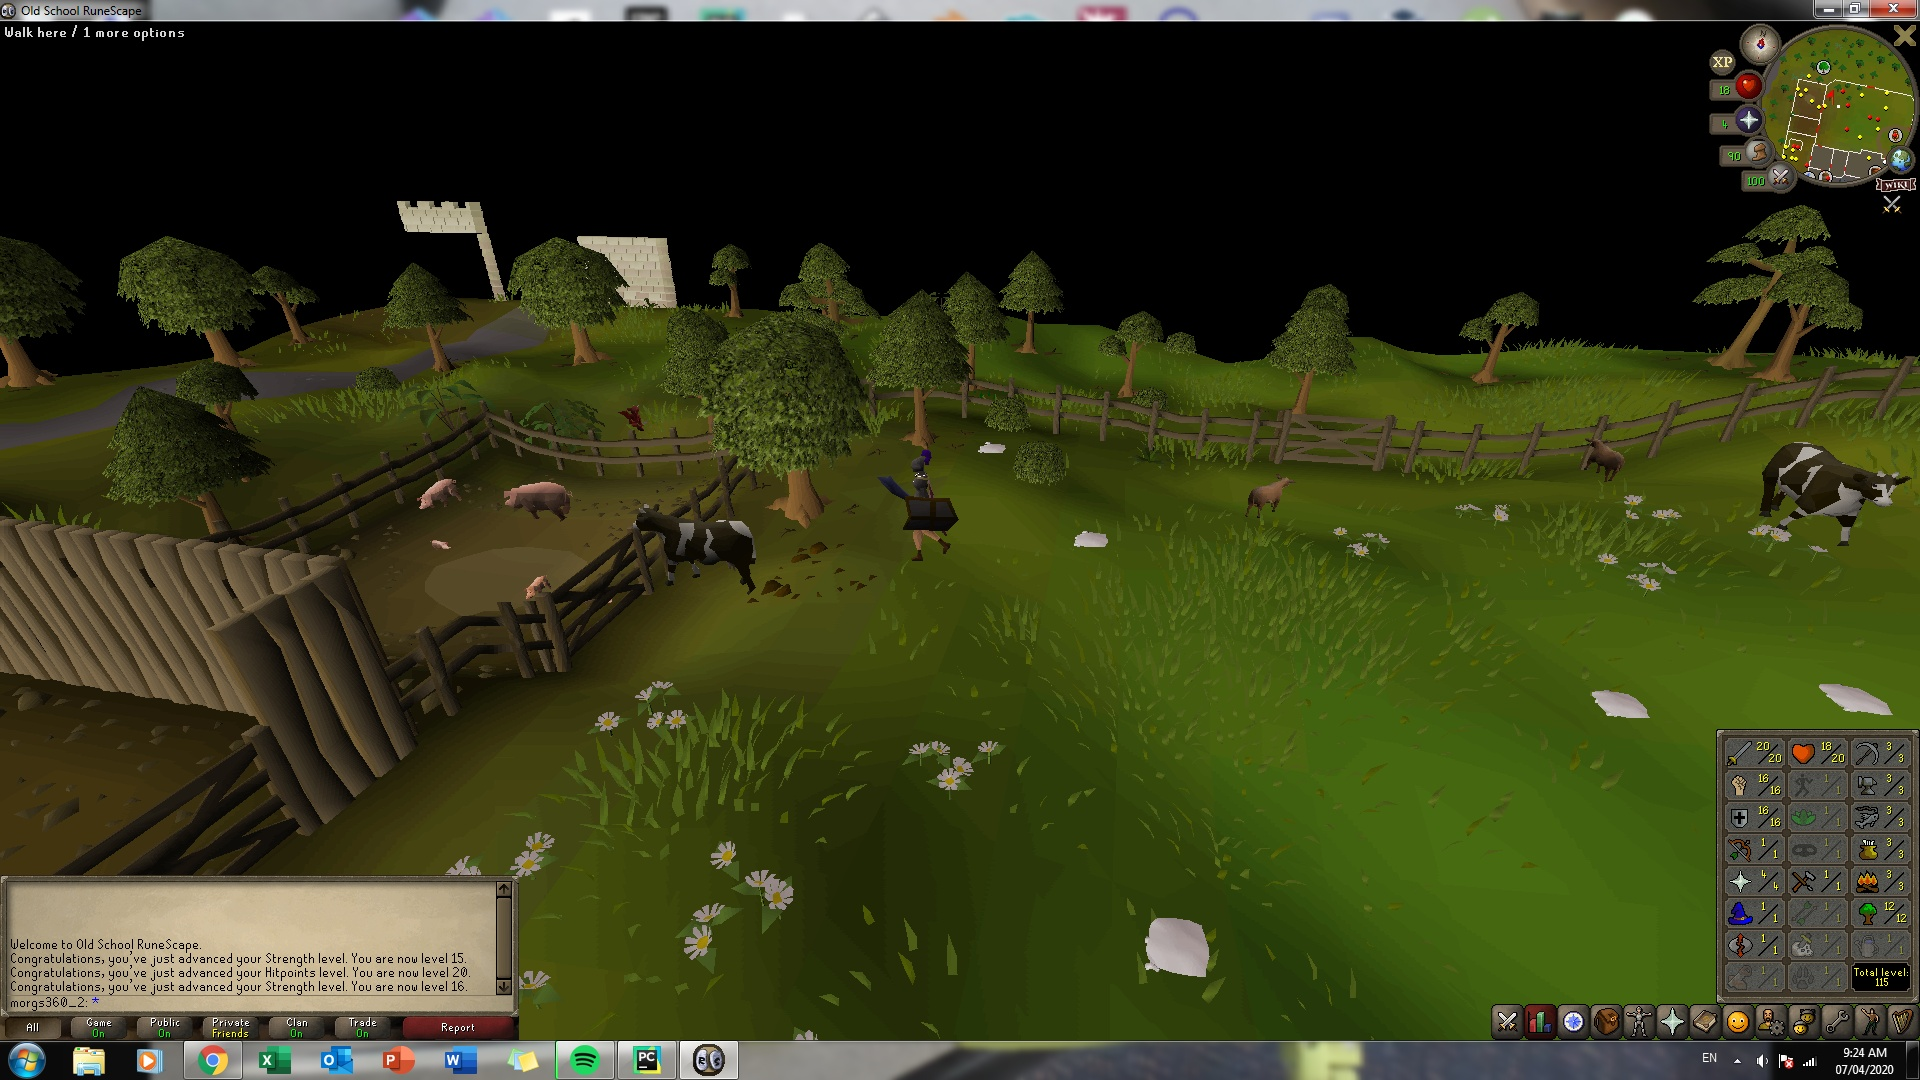cow: (1754, 436, 1913, 556), (636, 501, 761, 600)
